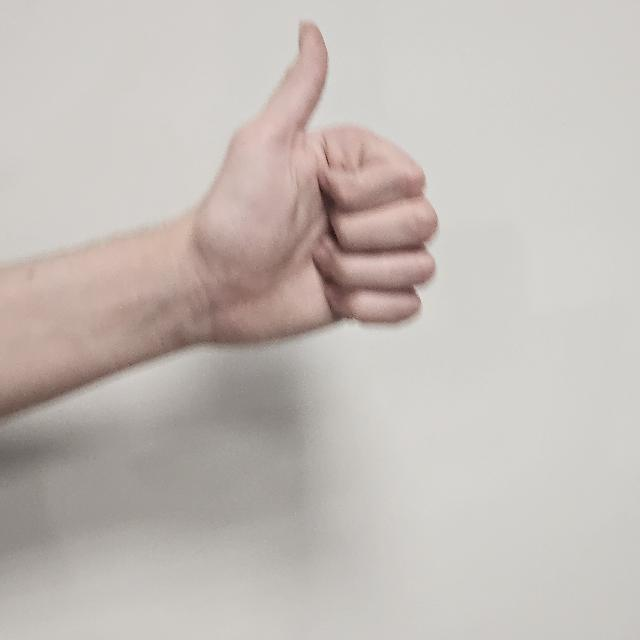Start: (198, 20, 440, 356)
